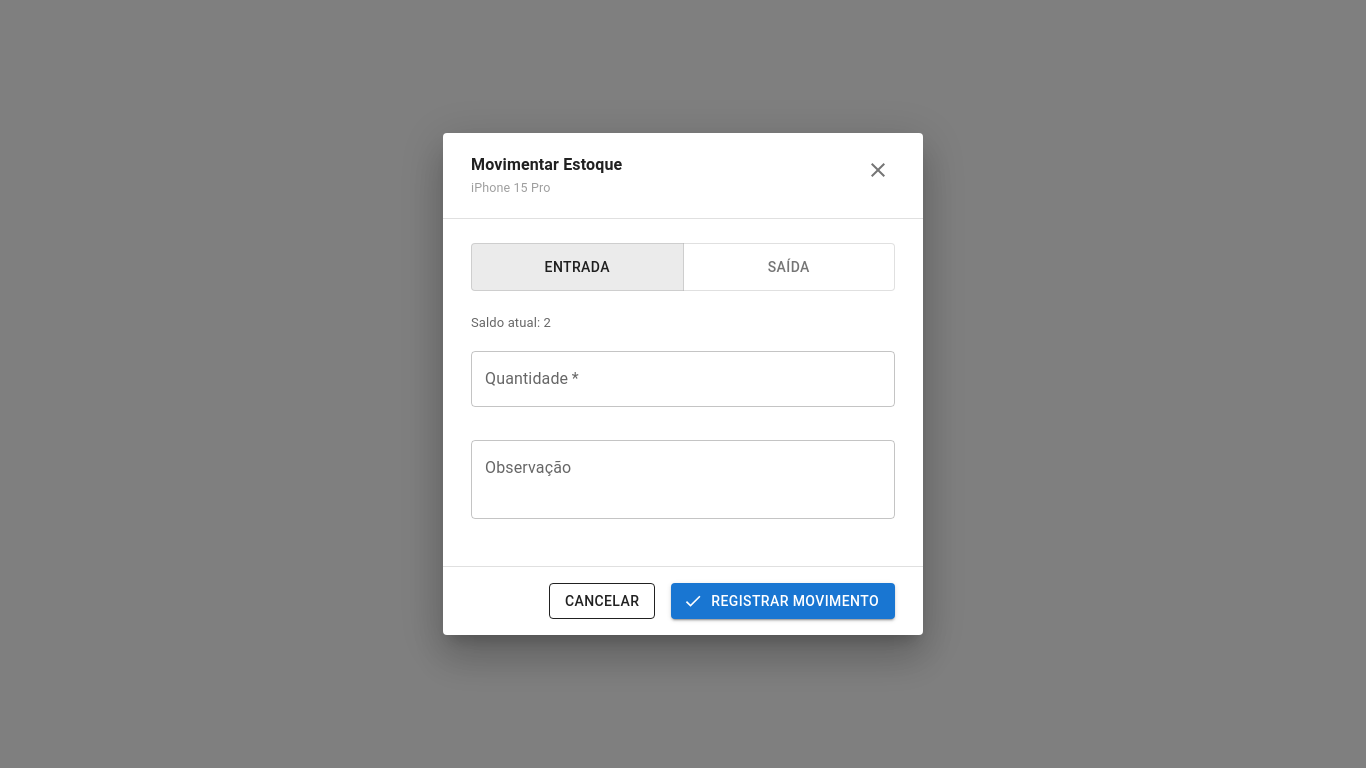
Test case: StockMovementModal › não envia quantidade 0: precisa ser inteiro maior que zero
Type "0" into the number field labelled "Quantidade *".
click(683, 379); type("0")  # box [471, 351, 895, 407]
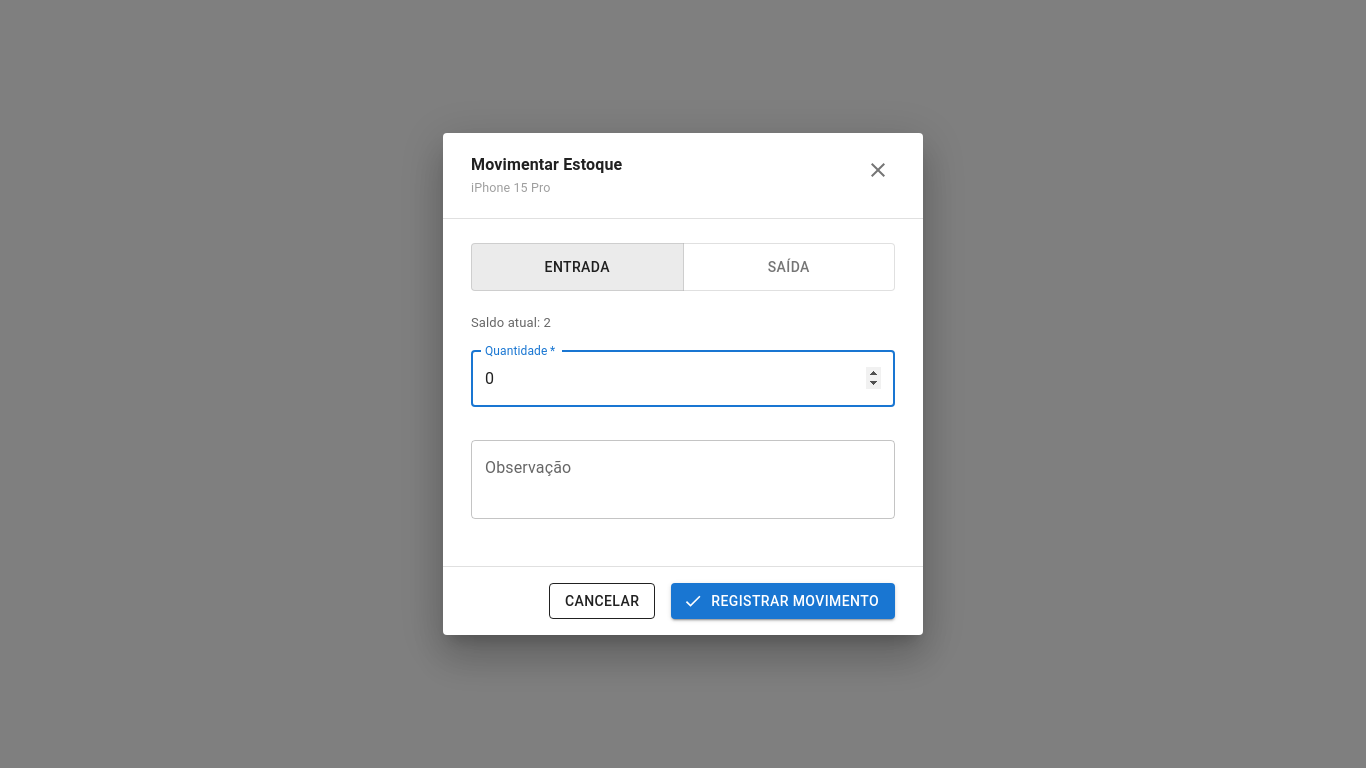
Click the button "Registrar movimento".
click(783, 601)  # box [671, 582, 895, 619]
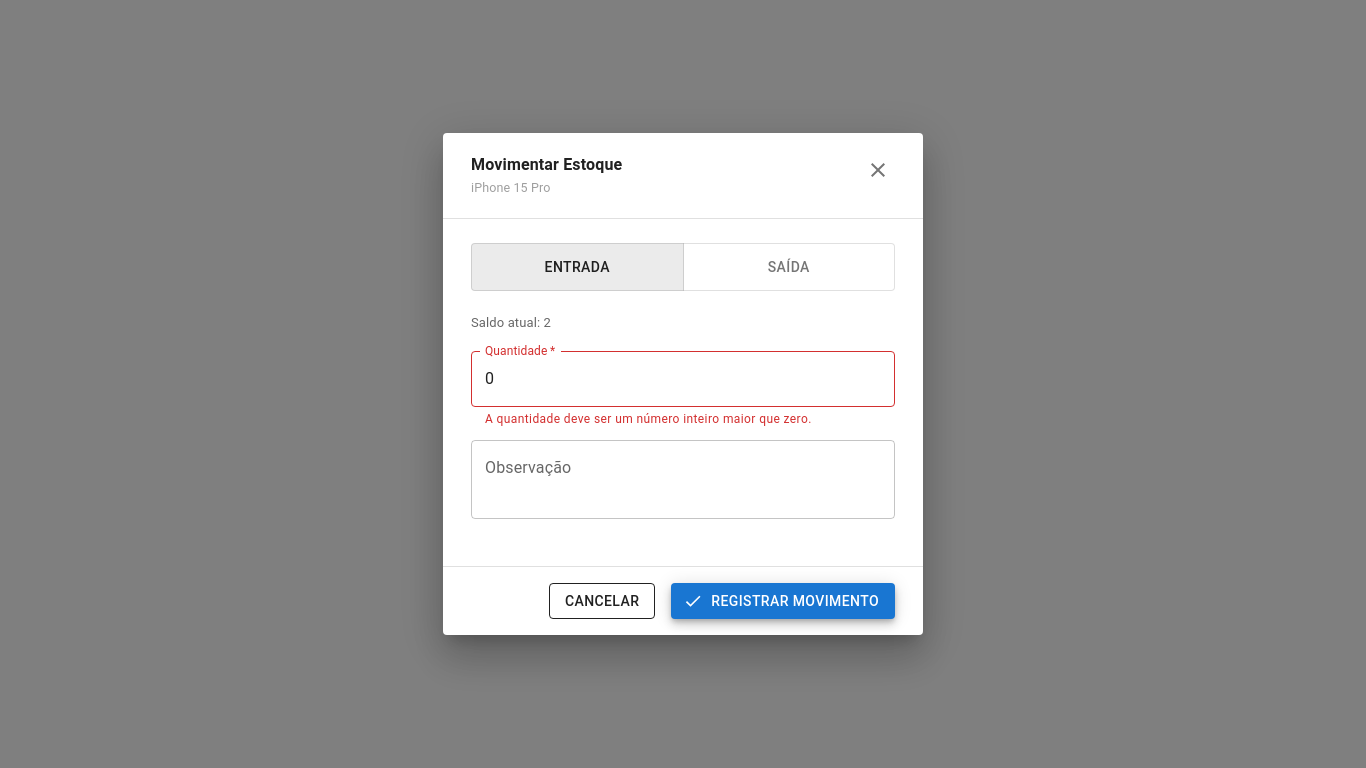
Expected: the text "A quantidade deve ser um número inteiro maior que zero." is shown, [485, 412, 812, 426]
